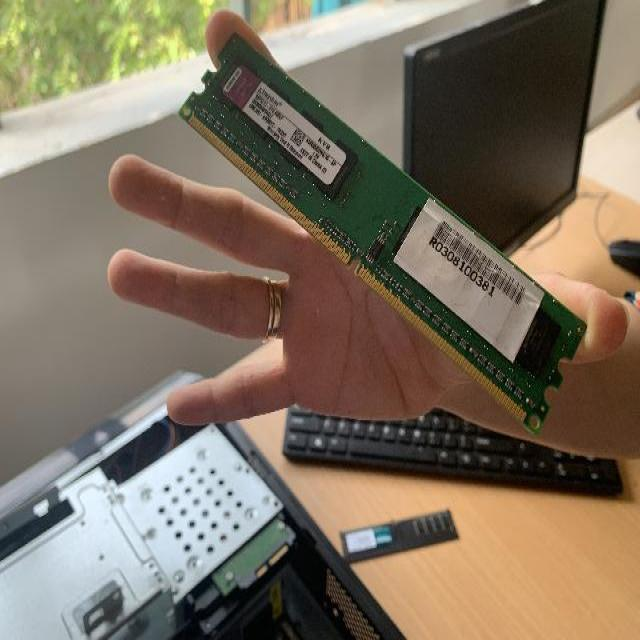RAM: (175, 27, 590, 437)
